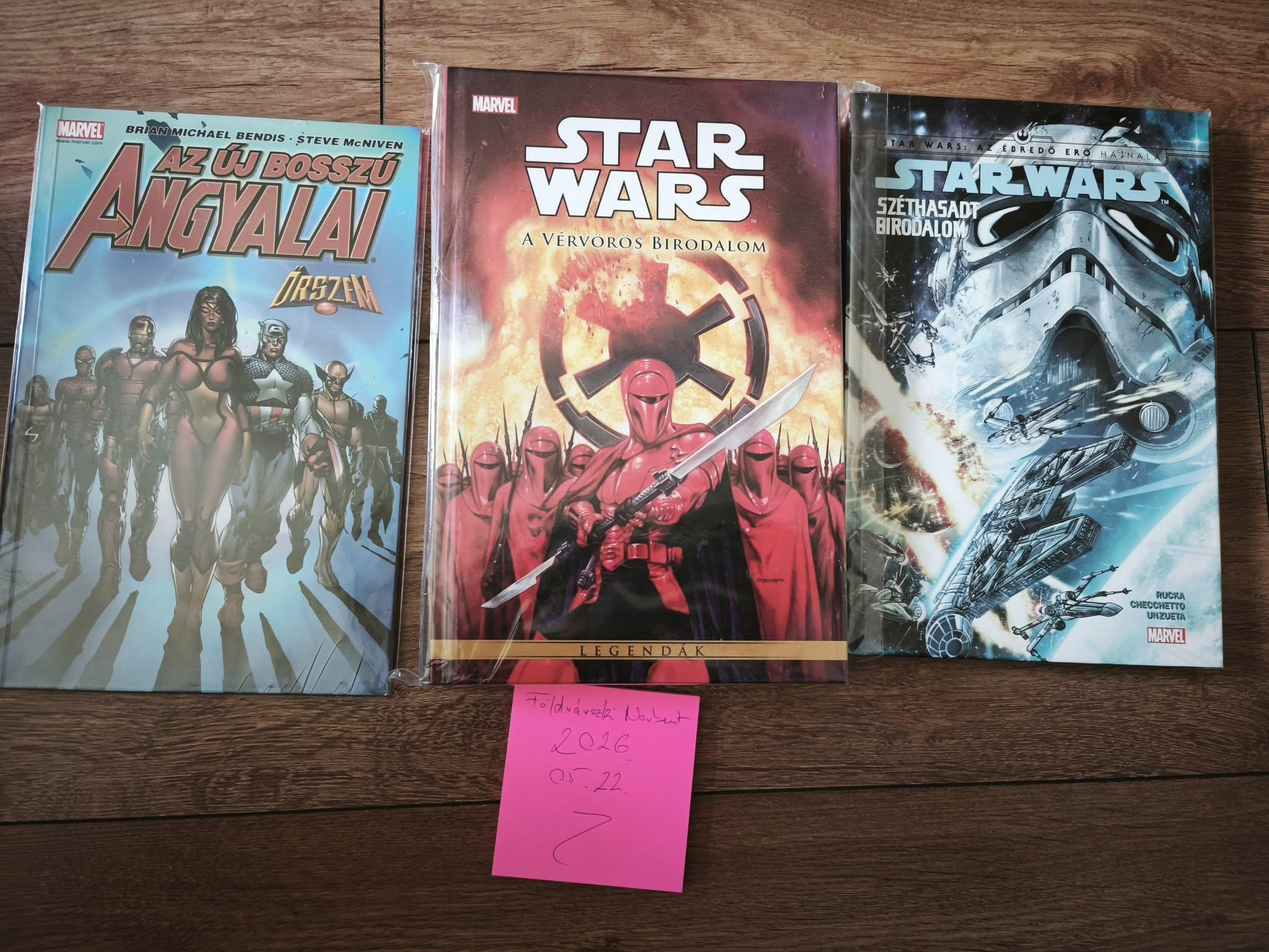comic: (422, 67, 857, 689), (0, 99, 434, 714), (841, 93, 1231, 666)
